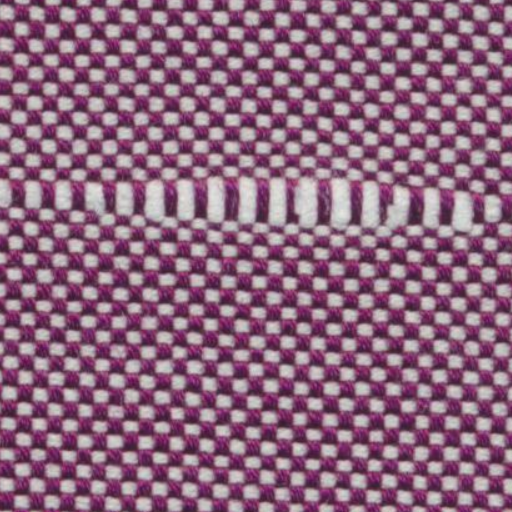DaiSha: (9, 154, 496, 238)
